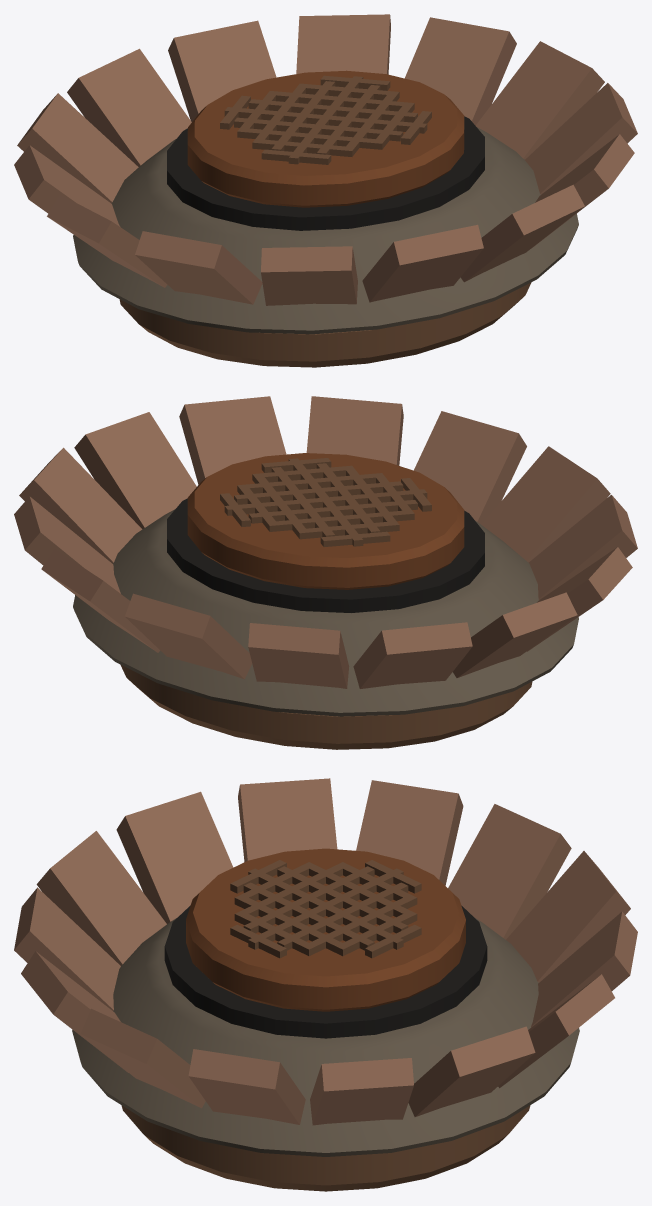
Rendered from land-mine.glb.
3 renders of one model, top to bottom at view 1: azimuth 30°, elevation 25°; view 2: azimuth 150°, elevation 25°; view 3: azimuth 270°, elevation 25°, orthographic. The views are drawn at different scales.
Visible parts, largest first — view 1: body; view 2: body; view 3: body.
Boxes of the visible parts, x1=… form: body: x1=14, y1=14, x2=637, y2=367; body: x1=14, y1=396, x2=637, y2=749; body: x1=14, y1=778, x2=637, y2=1191.
Size of the model in its own units: 0.9206 by 0.271 by 0.8076.
